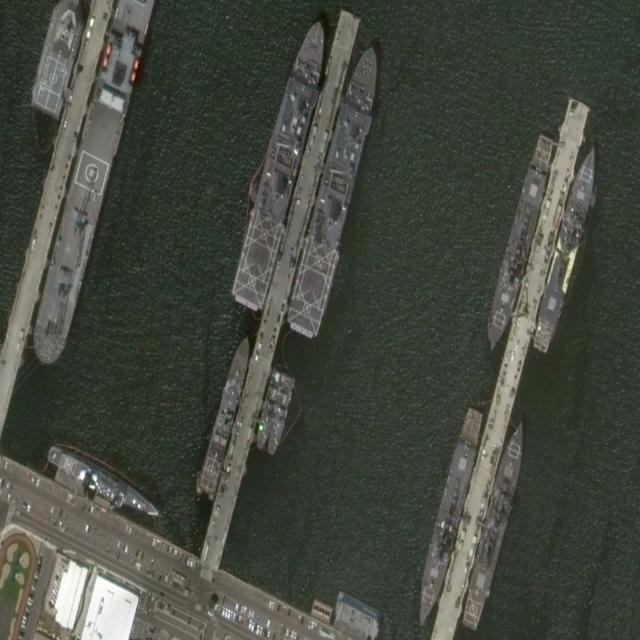Auxiliary Ships: (228, 10, 337, 312), (284, 37, 391, 341)
Cargo: (24, 5, 150, 371)
Destroyer: (407, 404, 488, 632), (479, 130, 558, 359), (459, 416, 534, 633), (529, 139, 604, 355)
Other Ship: (193, 330, 258, 502), (46, 438, 163, 525)
Other Warship: (264, 373, 297, 457), (253, 368, 284, 452)
